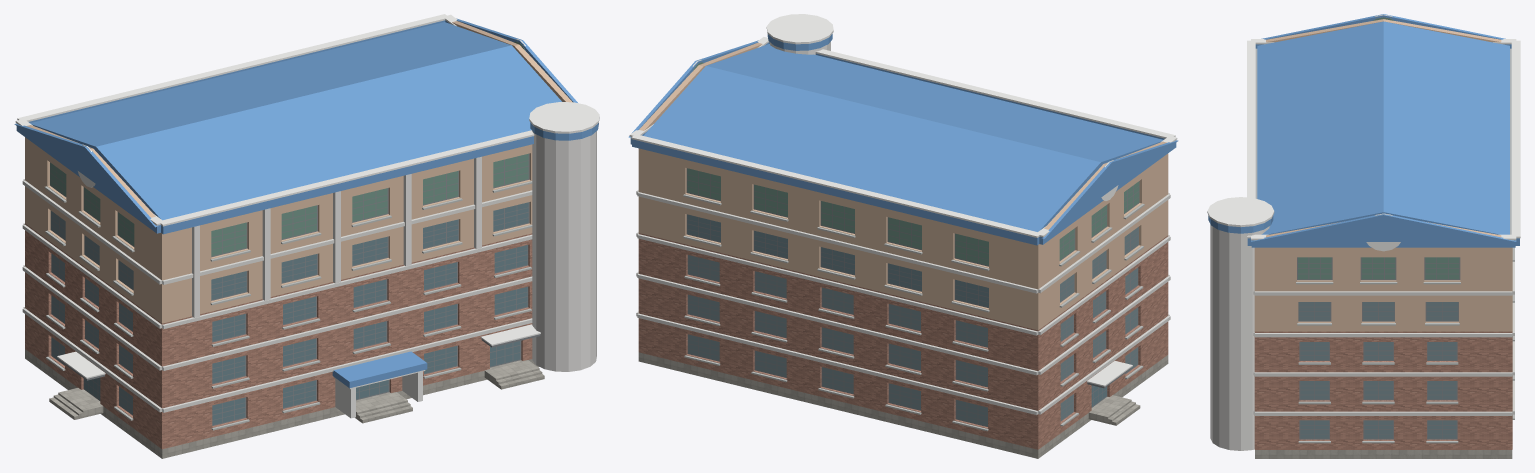
3 views of the same model, side by side, from view 1: azimuth 30°, elevation 25°; view 2: azimuth 150°, elevation 25°; view 3: azimuth 270°, elevation 25° (orthographic). The views are drawn at different scales.
Visible parts, largest first — view 1: buheung-hall__blue, buheung-hall__brick, buheung-hall__terracotta, buheung-hall__panel, buheung-hall__glass, buheung-hall__band, buheung-hall__cap, buheung-hall__frame, buheung-hall__clerestoryglass, buheung-hall__sill, buheung-hall__stone, buheung-hall__sideglass (+3 smaller); view 2: buheung-hall__blue, buheung-hall__brick, buheung-hall__terracotta, buheung-hall__sideglass, buheung-hall__band, buheung-hall__frame, buheung-hall__cap, buheung-hall__clerestoryglass, buheung-hall__stone, buheung-hall__sill, buheung-hall__glass, buheung-hall__stair-north-entry; view 3: buheung-hall__blue, buheung-hall__brick, buheung-hall__terracotta, buheung-hall__panel, buheung-hall__sideglass, buheung-hall__cap, buheung-hall__band, buheung-hall__frame, buheung-hall__clerestoryglass, buheung-hall__stone, buheung-hall__sill, buheung-hall__metalroof.
Part boxes in pixels (left/top/right/bottom): buheung-hall__blue: left=14, top=18, right=598, bottom=388; buheung-hall__brick: left=25, top=223, right=532, bottom=449; buheung-hall__terracotta: left=25, top=21, right=572, bottom=323; buheung-hall__panel: left=192, top=131, right=596, bottom=371; buheung-hall__glass: left=84, top=202, right=528, bottom=425; buheung-hall__band: left=22, top=179, right=532, bottom=412; buheung-hall__cap: left=15, top=14, right=599, bottom=418; buheung-hall__frame: left=50, top=153, right=529, bottom=425; buheung-hall__clerestoryglass: left=50, top=41, right=528, bottom=256; buheung-hall__sill: left=44, top=181, right=532, bottom=430; buheung-hall__stone: left=25, top=349, right=539, bottom=458; buheung-hall__sideglass: left=51, top=211, right=133, bottom=414; buheung-hall__blue: left=628, top=34, right=1178, bottom=245; buheung-hall__brick: left=638, top=233, right=1168, bottom=449; buheung-hall__terracotta: left=638, top=43, right=1168, bottom=330; buheung-hall__sideglass: left=688, top=227, right=1138, bottom=426; buheung-hall__band: left=636, top=190, right=1170, bottom=414; buheung-hall__frame: left=686, top=168, right=1139, bottom=426; buheung-hall__cap: left=629, top=14, right=1177, bottom=386; buheung-hall__clerestoryglass: left=687, top=62, right=1139, bottom=265; buheung-hall__stone: left=638, top=352, right=1168, bottom=458; buheung-hall__sill: left=683, top=194, right=1144, bottom=431; buheung-hall__glass: left=687, top=214, right=1106, bottom=406; buheung-hall__stair-north-entry: left=1103, top=398, right=1140, bottom=425; buheung-hall__blue: left=1208, top=14, right=1519, bottom=247; buheung-hall__brick: left=1254, top=331, right=1512, bottom=449; buheung-hall__terracotta: left=1254, top=19, right=1512, bottom=331; buheung-hall__panel: left=1210, top=225, right=1269, bottom=450; buheung-hall__sideglass: left=1299, top=302, right=1457, bottom=438; buheung-hall__cap: left=1207, top=14, right=1520, bottom=251; buheung-hall__band: left=1253, top=261, right=1514, bottom=415; buheung-hall__frame: left=1297, top=257, right=1460, bottom=439; buheung-hall__clerestoryglass: left=1298, top=17, right=1459, bottom=279; buheung-hall__stone: left=1255, top=450, right=1512, bottom=458; buheung-hall__sill: left=1296, top=247, right=1514, bottom=443; buheung-hall__metalroof: left=1255, top=48, right=1511, bottom=234.
Bounding box in the file's own units: 39 × 21.48 × 24.54.
Materials: 15 (2 with a texture image).
